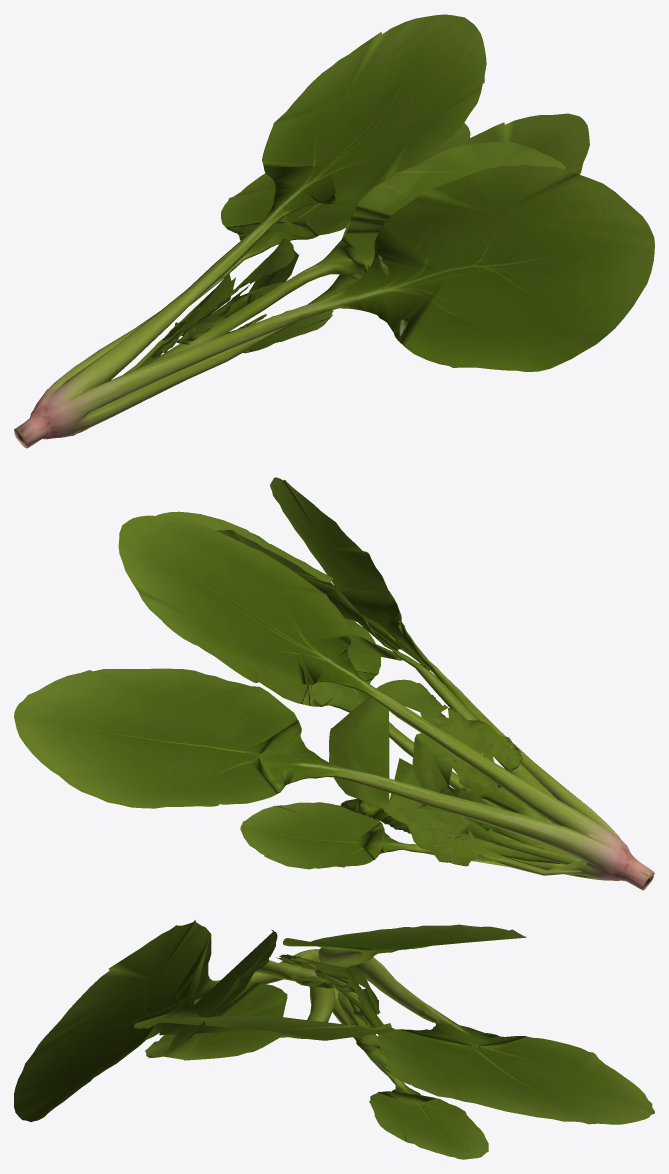
3 renders of one model, top to bottom at view 1: azimuth 30°, elevation 25°; view 2: azimuth 150°, elevation 25°; view 3: azimuth 270°, elevation 25°, orthographic. The views are drawn at different scales.
Parts seen in each view (by area): view 1: Spinach; view 2: Spinach; view 3: Spinach.
Part boxes in pixels (x1,y1,x2,y2): Spinach: (14, 14, 654, 448); Spinach: (14, 477, 654, 890); Spinach: (14, 920, 654, 1159).
Size of the model in its own units: 0.998 by 0.502 by 0.8887.
1 material, 1 textured.
